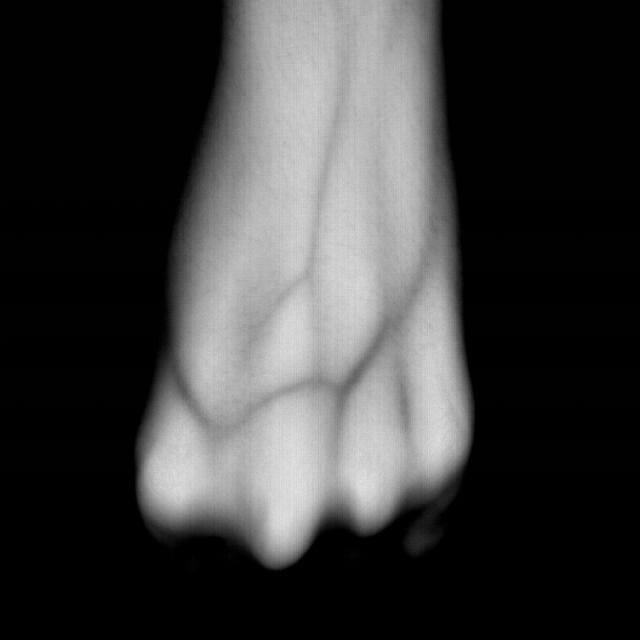Vein: (193, 321, 393, 442)
